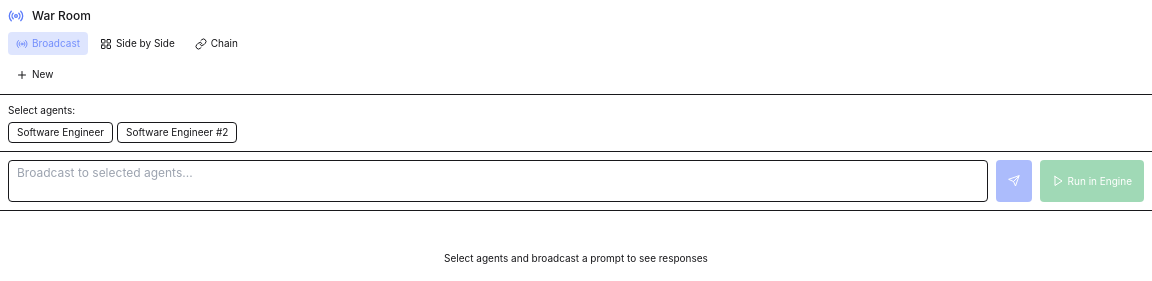
Test case: WarRoom › main component › switches to side-by-side view when tab is clicked
The width and height of the screenshot is (1152, 281).
Step 1. Click the button "Side by Side" → [137, 44], box [92, 32, 183, 55]
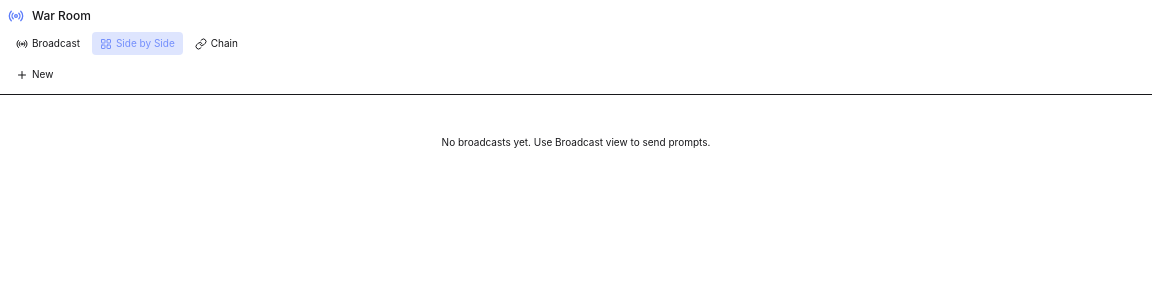
expect the text "No broadcasts yet. Use Broadcast view to send prompts." is shown: met, box [442, 136, 710, 148]
